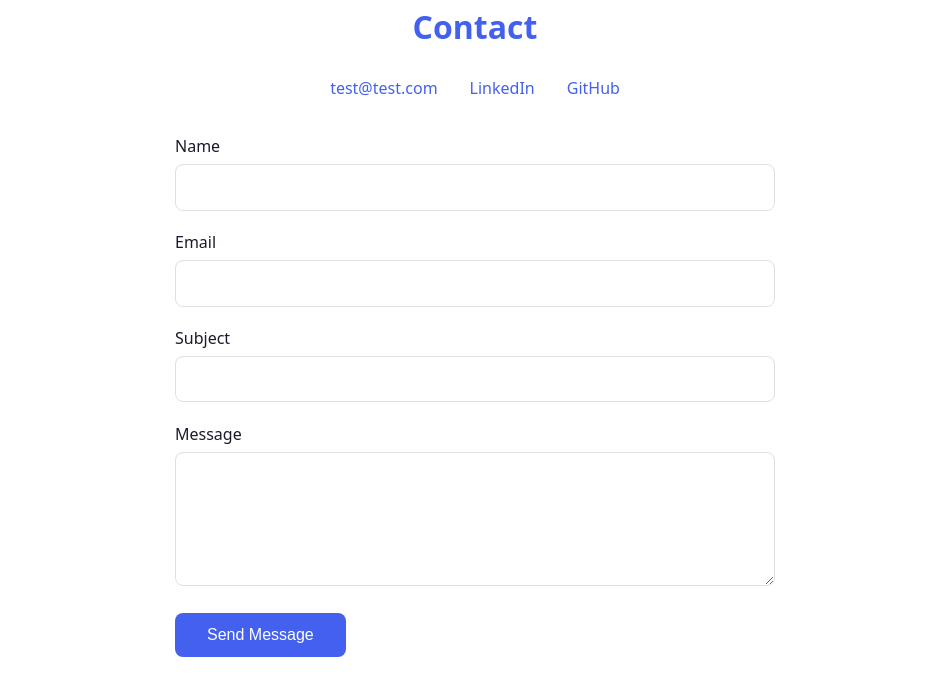
it: Contact › shows success message on valid submit
This screenshot has width=951, height=674.
Type "Test" into the field labelled "Name".
click(475, 187); type("Test")  # box x1=175 y1=164 x2=775 y2=211
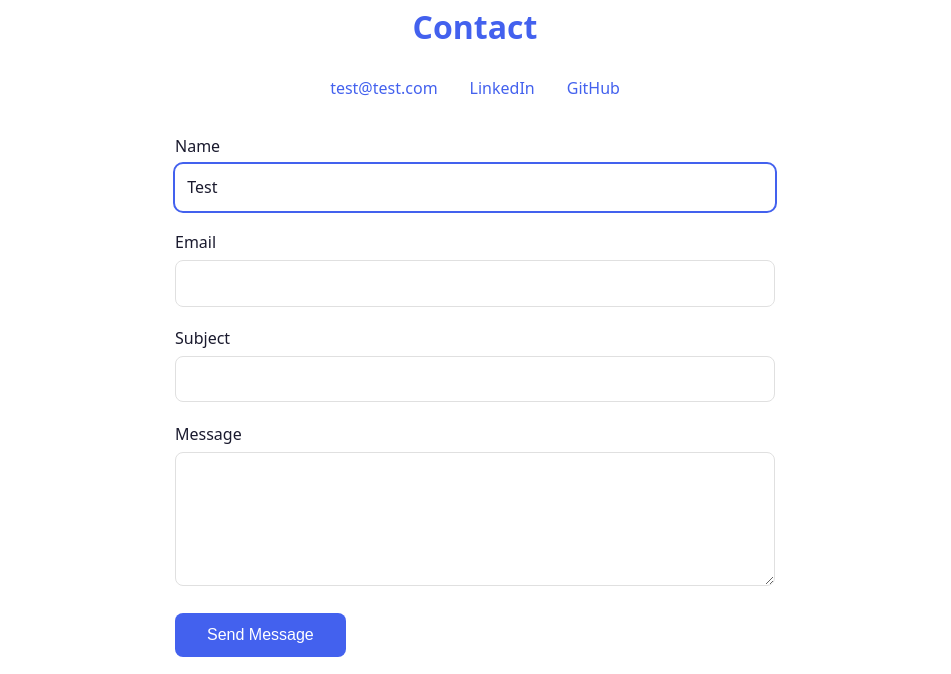
Type "test@test.com" into the field labelled "Email".
click(475, 283); type("test@test.com")  # box x1=175 y1=260 x2=775 y2=306
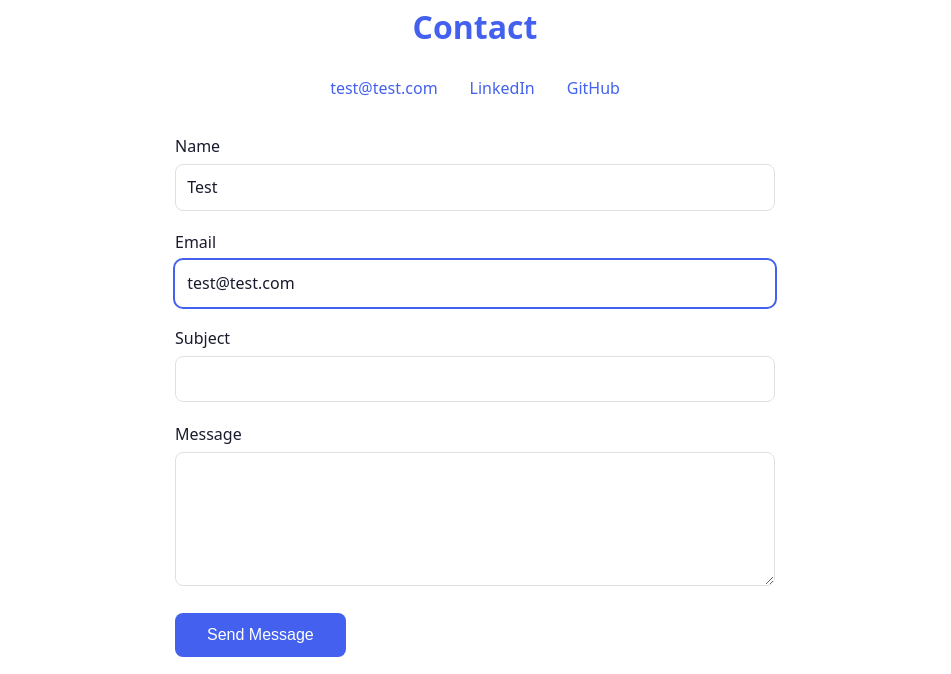
Type "Hello" into the field labelled "Subject".
click(475, 379); type("Hello")  # box x1=175 y1=356 x2=775 y2=402
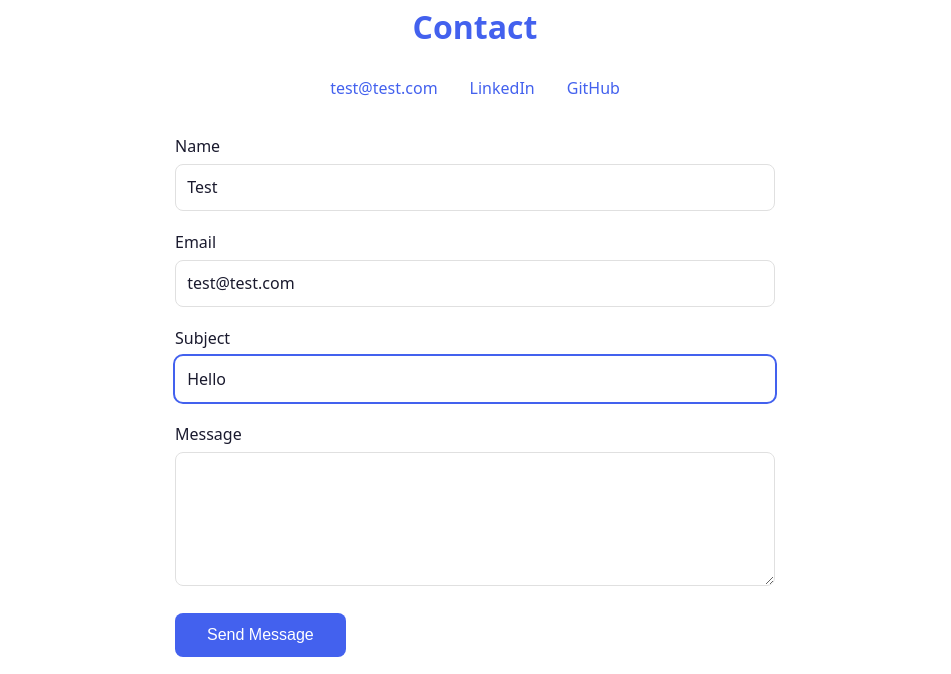
Type "World" into the text box labelled "Message".
click(475, 519); type("World")  # box x1=175 y1=452 x2=775 y2=586
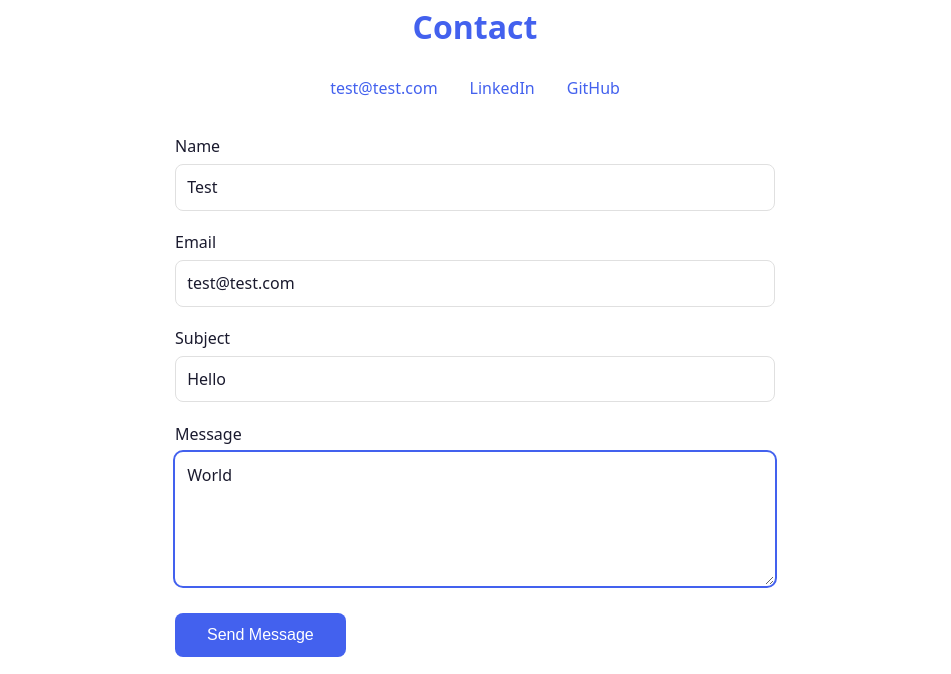
Click the button "Send Message".
click(260, 635)  # box x1=175 y1=613 x2=346 y2=657
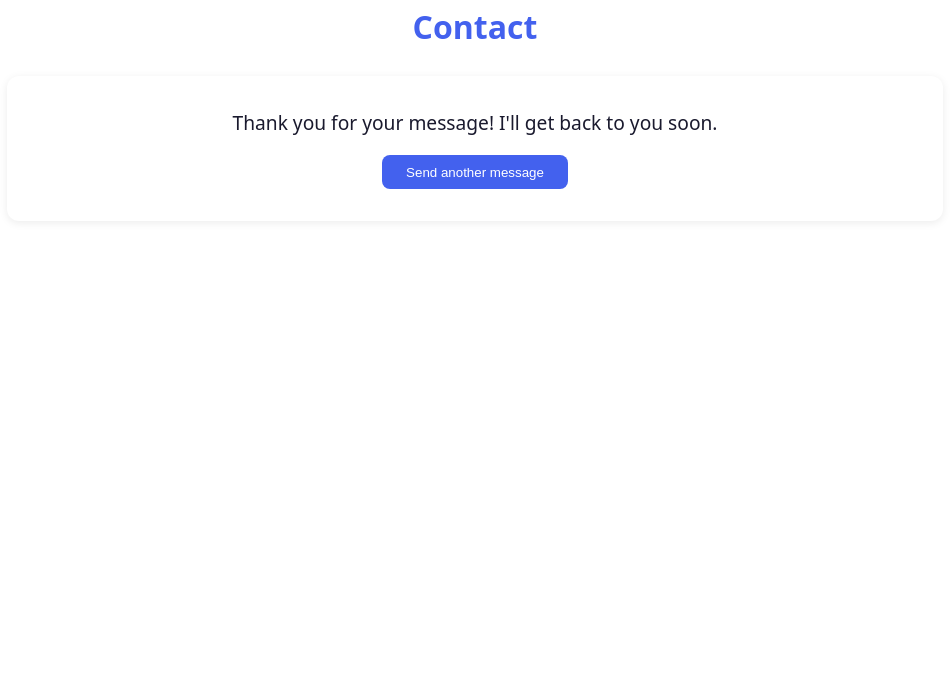
Check: the text "Thank you for your message! I'll get back to you soon." is shown, box x1=232 y1=109 x2=718 y2=136
